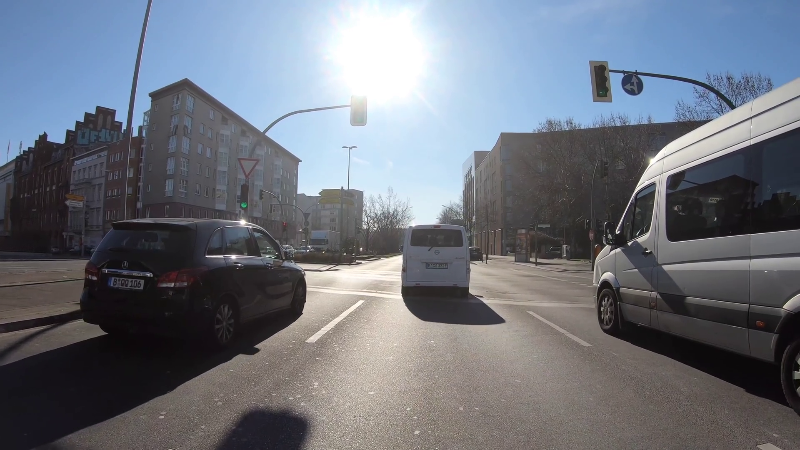Plate: (106, 275, 145, 292), (420, 261, 451, 271)
